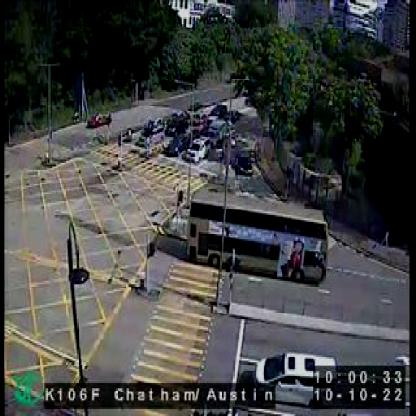Bus: (190, 190, 324, 282)
Car: (248, 348, 338, 395), (134, 132, 164, 156), (188, 138, 210, 164), (235, 150, 254, 174), (144, 115, 164, 136), (165, 134, 185, 155), (88, 112, 109, 129)
